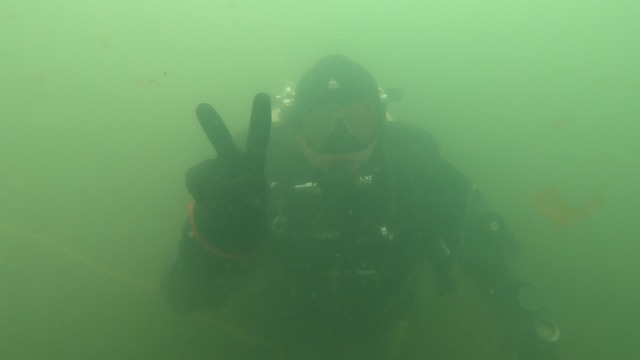Diver: (164, 51, 564, 357)
Hand: (183, 89, 275, 261)
Head: (290, 52, 390, 186)
